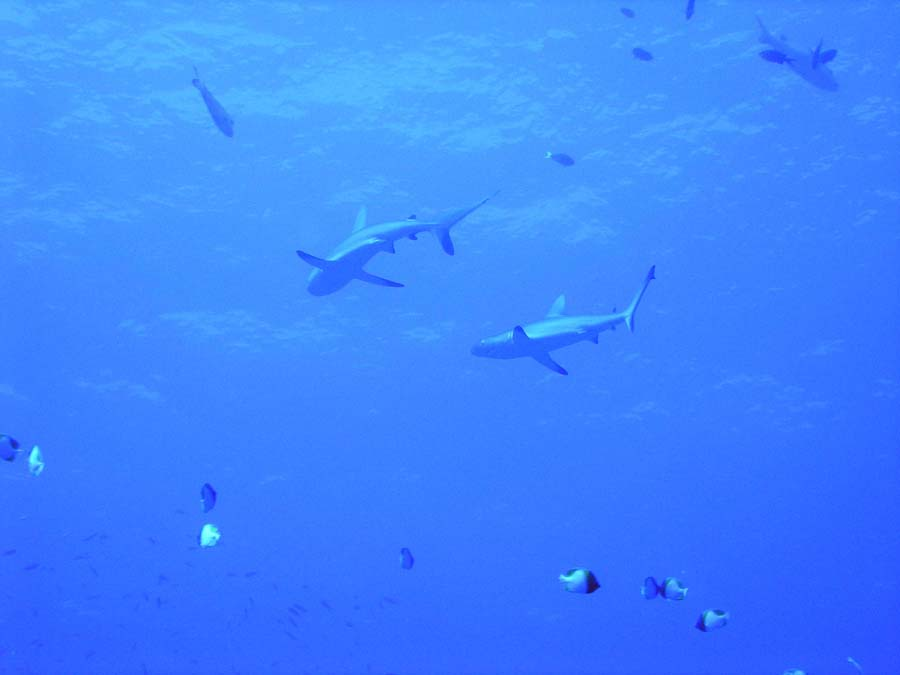Carcharhinus_amblyrhynchos: (274, 191, 508, 311), (463, 262, 672, 395)
